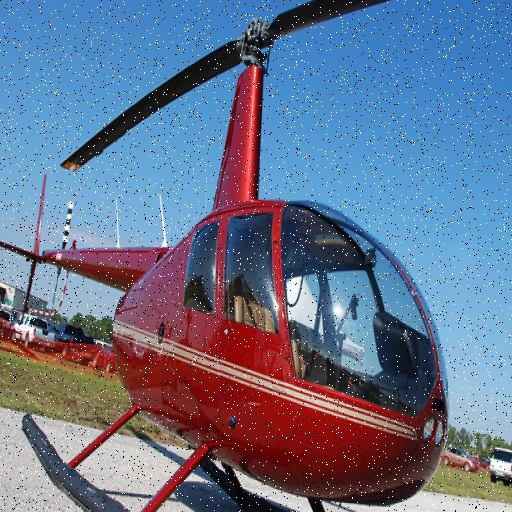helicopter: (1, 1, 452, 512)
